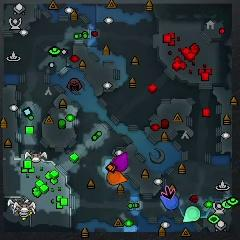p1: (158, 194, 180, 210)
p2: (182, 205, 200, 223)
p3: (111, 152, 129, 171)
p5: (106, 168, 127, 185)
x1Clone: (161, 186, 175, 200)
